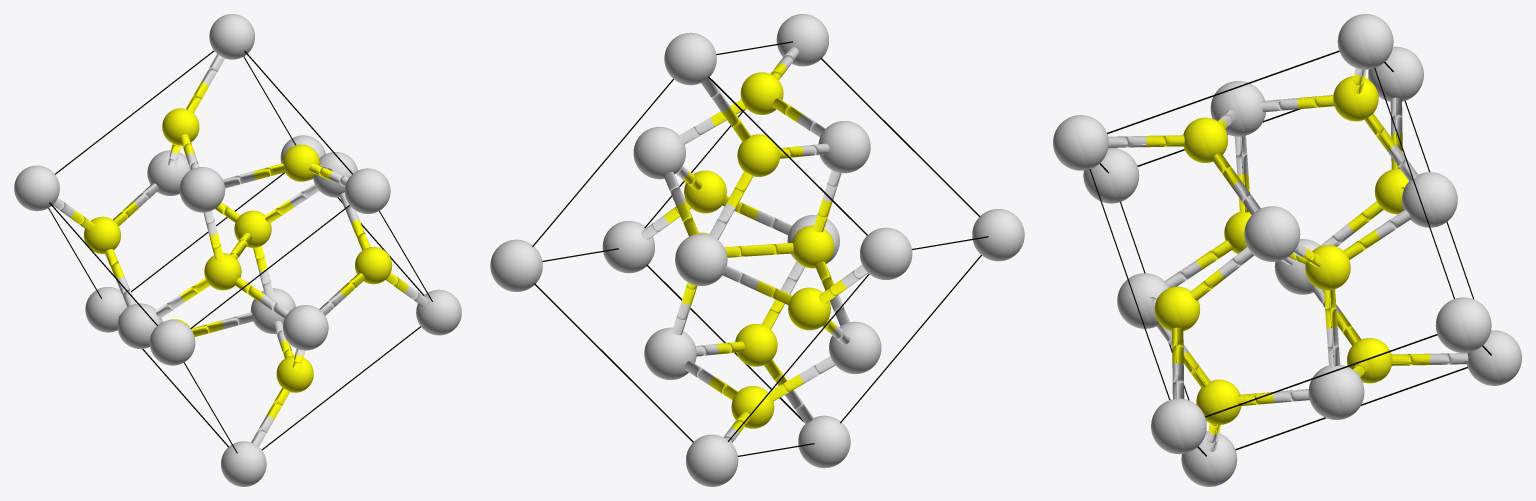
File: FeS.glb
3 renders of one model, left to right at view 1: azimuth 30°, elevation 25°; view 2: azimuth 150°, elevation 25°; view 3: azimuth 270°, elevation 25°, orthographic. The views are drawn at different scales.
Visible parts, largest first — view 1: UnitCellSegment_0; view 2: UnitCellSegment_0; view 3: UnitCellSegment_0.
Part boxes in pixels (x1,y1,x2,y2): UnitCellSegment_0: [14, 14, 461, 486]; UnitCellSegment_0: [490, 14, 1024, 486]; UnitCellSegment_0: [1053, 14, 1521, 486].
Size of the model in its own units: 0.8908 by 0.9875 by 0.8409.
